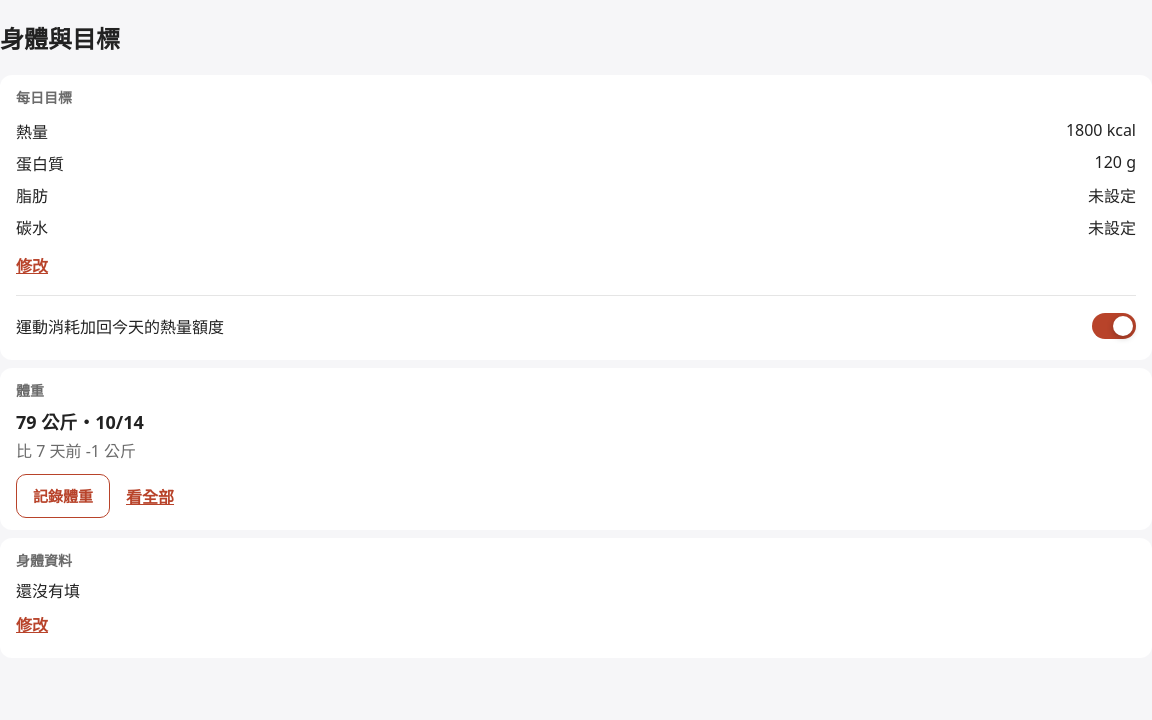
Test: 身體與目標：體重卡片 › 記錄體重：展開表單（日期預設、上下限是後端給的今天），存了收起來、焦點回到按鈕
Click the button "記錄體重" at (63, 496), box 16,474 -> 110,518
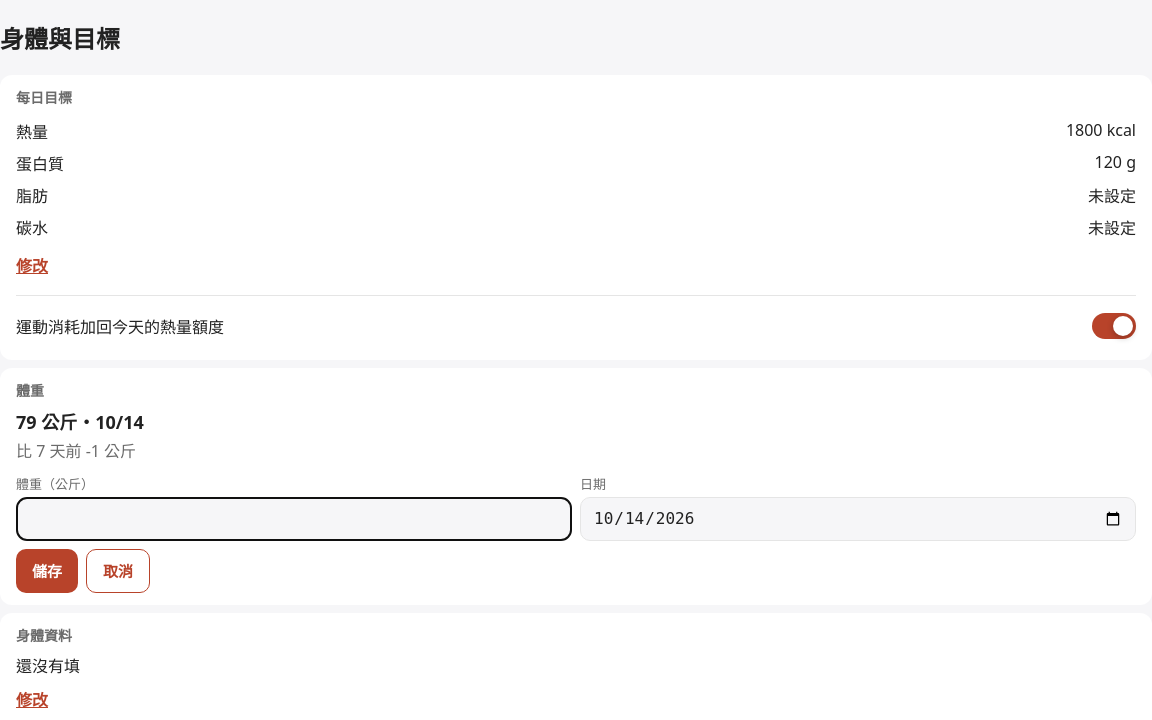
Expected: the date field labelled "日期" holds "2026-10-14", 580,497 -> 1136,541
Type "78.5" into the field labelled "體重（公斤）" at (294, 519), box 16,497 -> 572,541
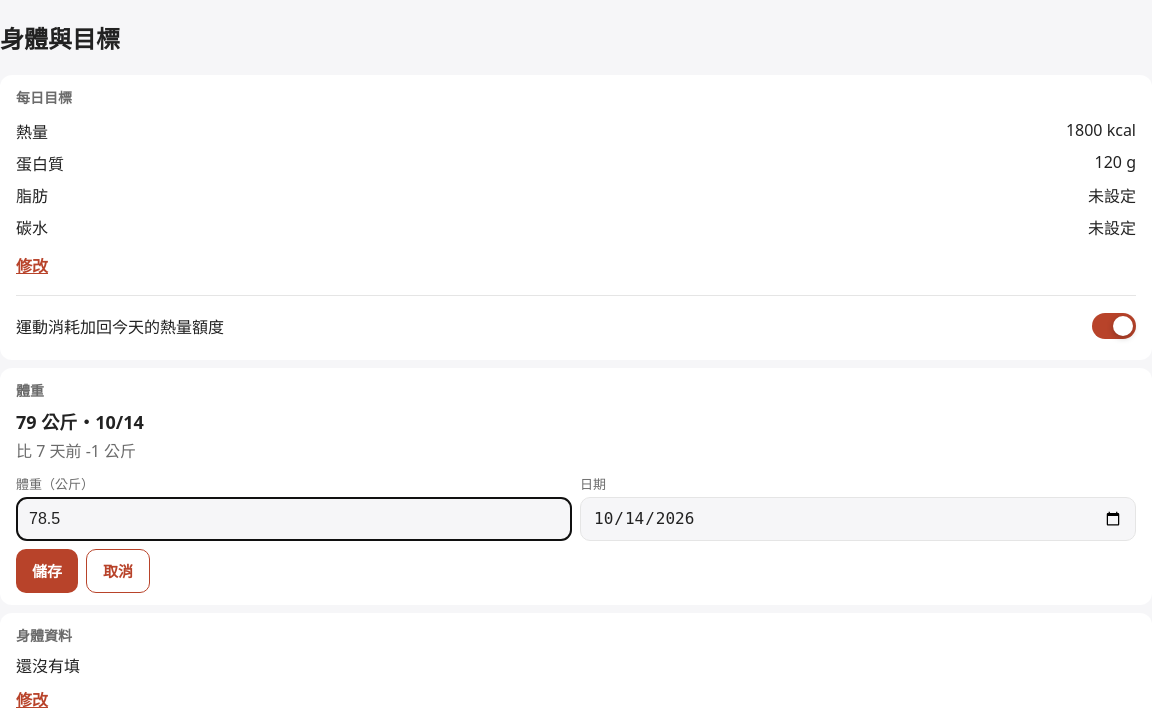
Click the button "儲存" at (47, 571), box 16,549 -> 78,593
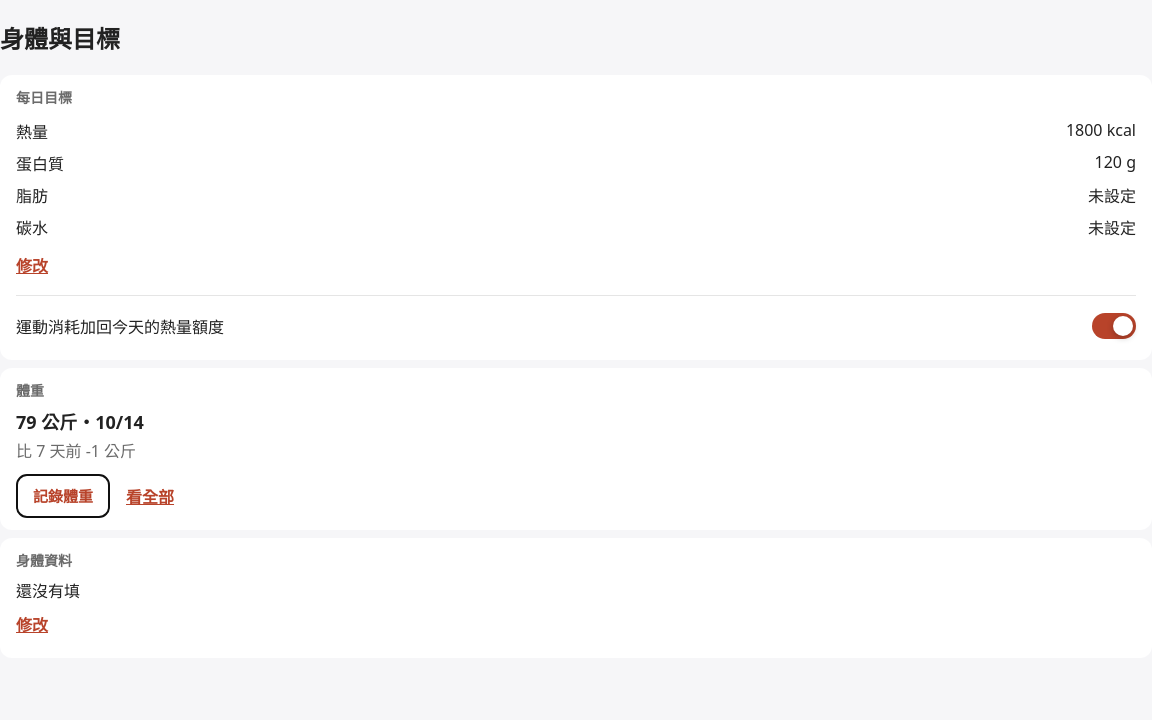
Expected: the label labelled "體重（公斤）" is gone
